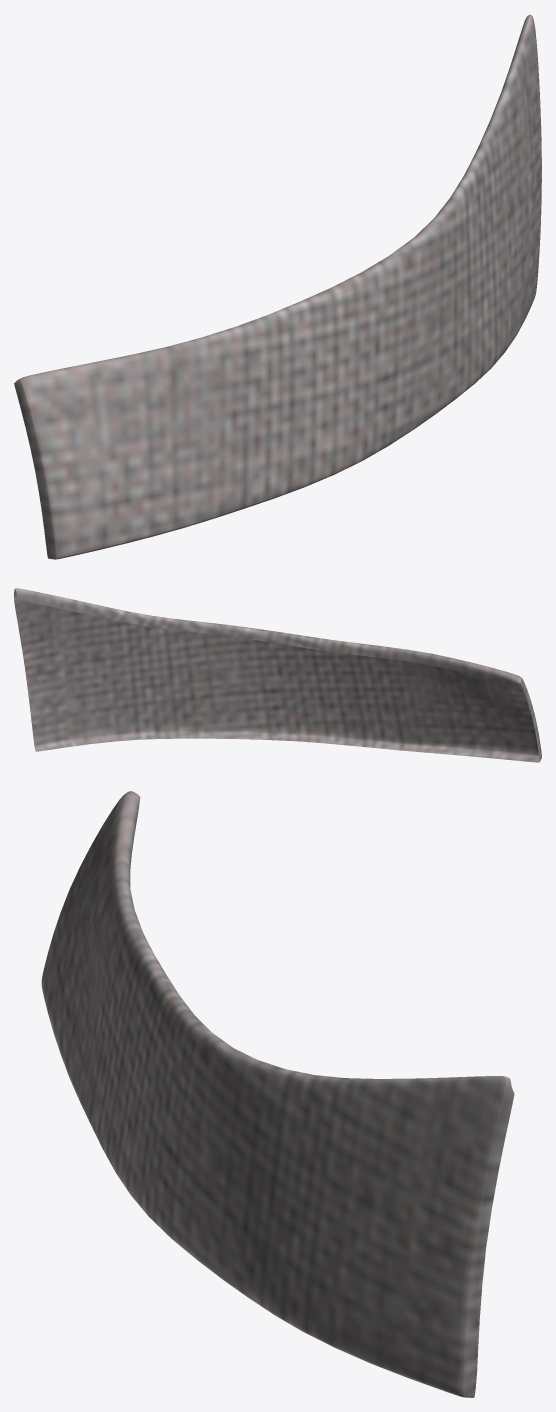
The model's file is upper_halfmoon_pocket.glb.
The picture shows the model from 3 angles, top to bottom: view 1: azimuth 30°, elevation 25°; view 2: azimuth 150°, elevation 25°; view 3: azimuth 270°, elevation 25°; orthographic projection. The views are drawn at different scales.
Visible parts, largest first — view 1: upper_halfmoon_pocket; view 2: upper_halfmoon_pocket; view 3: upper_halfmoon_pocket.
Part boxes in pixels (bbox=[...]): upper_halfmoon_pocket: bbox=[14, 14, 541, 559]; upper_halfmoon_pocket: bbox=[14, 588, 541, 762]; upper_halfmoon_pocket: bbox=[41, 791, 514, 1397].
Size of the model in its own units: 0.0126 by 0.00488 by 0.00624.
Materials: 1 (1 with a texture image).
